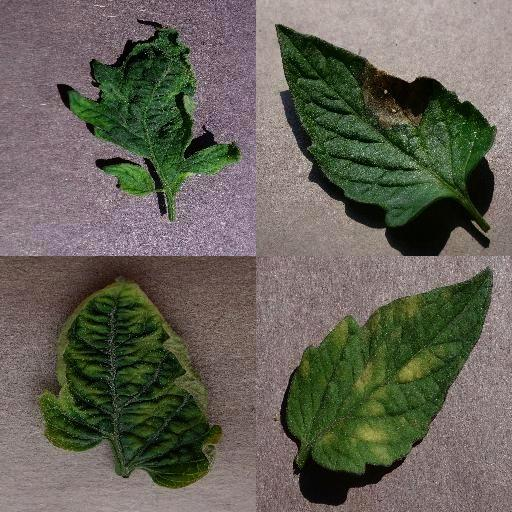Late Blight: (273, 22, 499, 226)
Leaf Mold: (287, 268, 492, 476)
Mosaic Virus: (65, 27, 244, 197)
Yellow Leaf Curl Virus: (39, 277, 225, 489)
